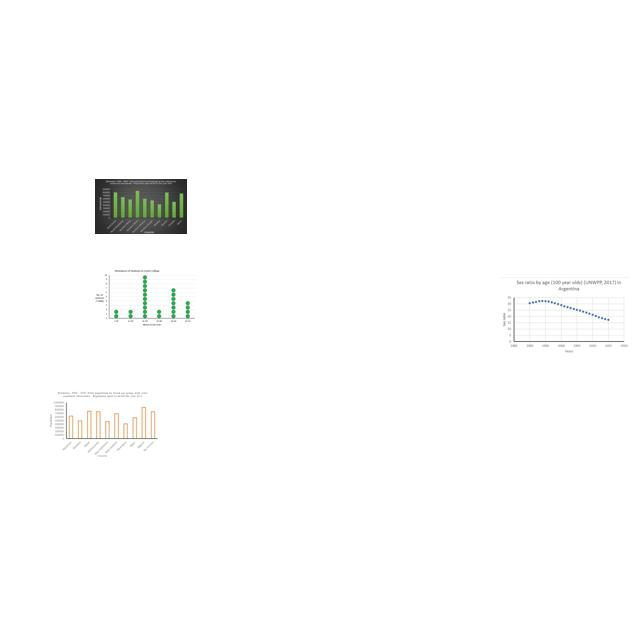Graph: (500, 277, 630, 355), (46, 390, 160, 458), (93, 268, 197, 328), (95, 179, 187, 234)
